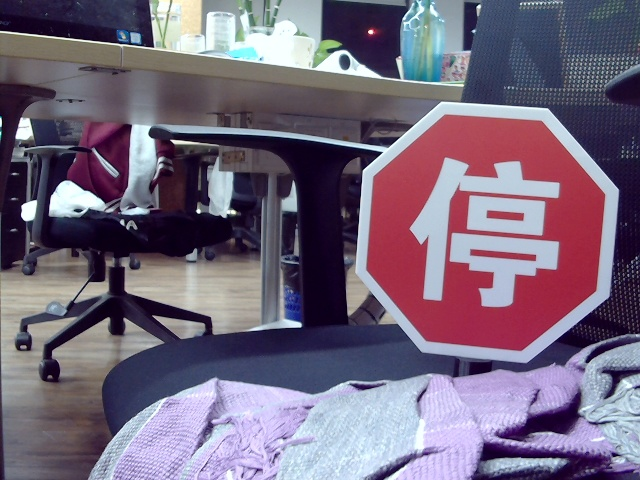stop: (411, 149, 557, 305)
